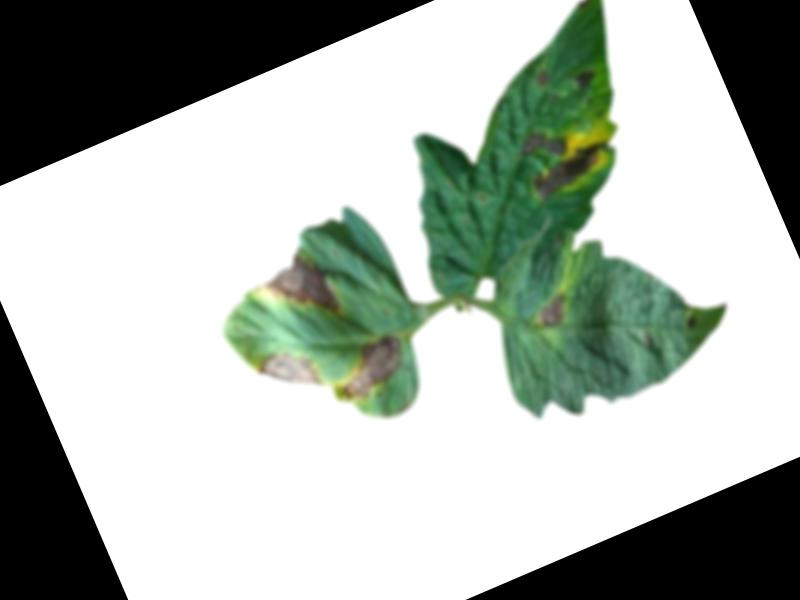Early_blight: (508, 105, 619, 203), (257, 244, 342, 333), (326, 326, 413, 404), (249, 338, 323, 410), (530, 291, 573, 332), (572, 66, 597, 91), (531, 66, 551, 87), (681, 311, 700, 332)
